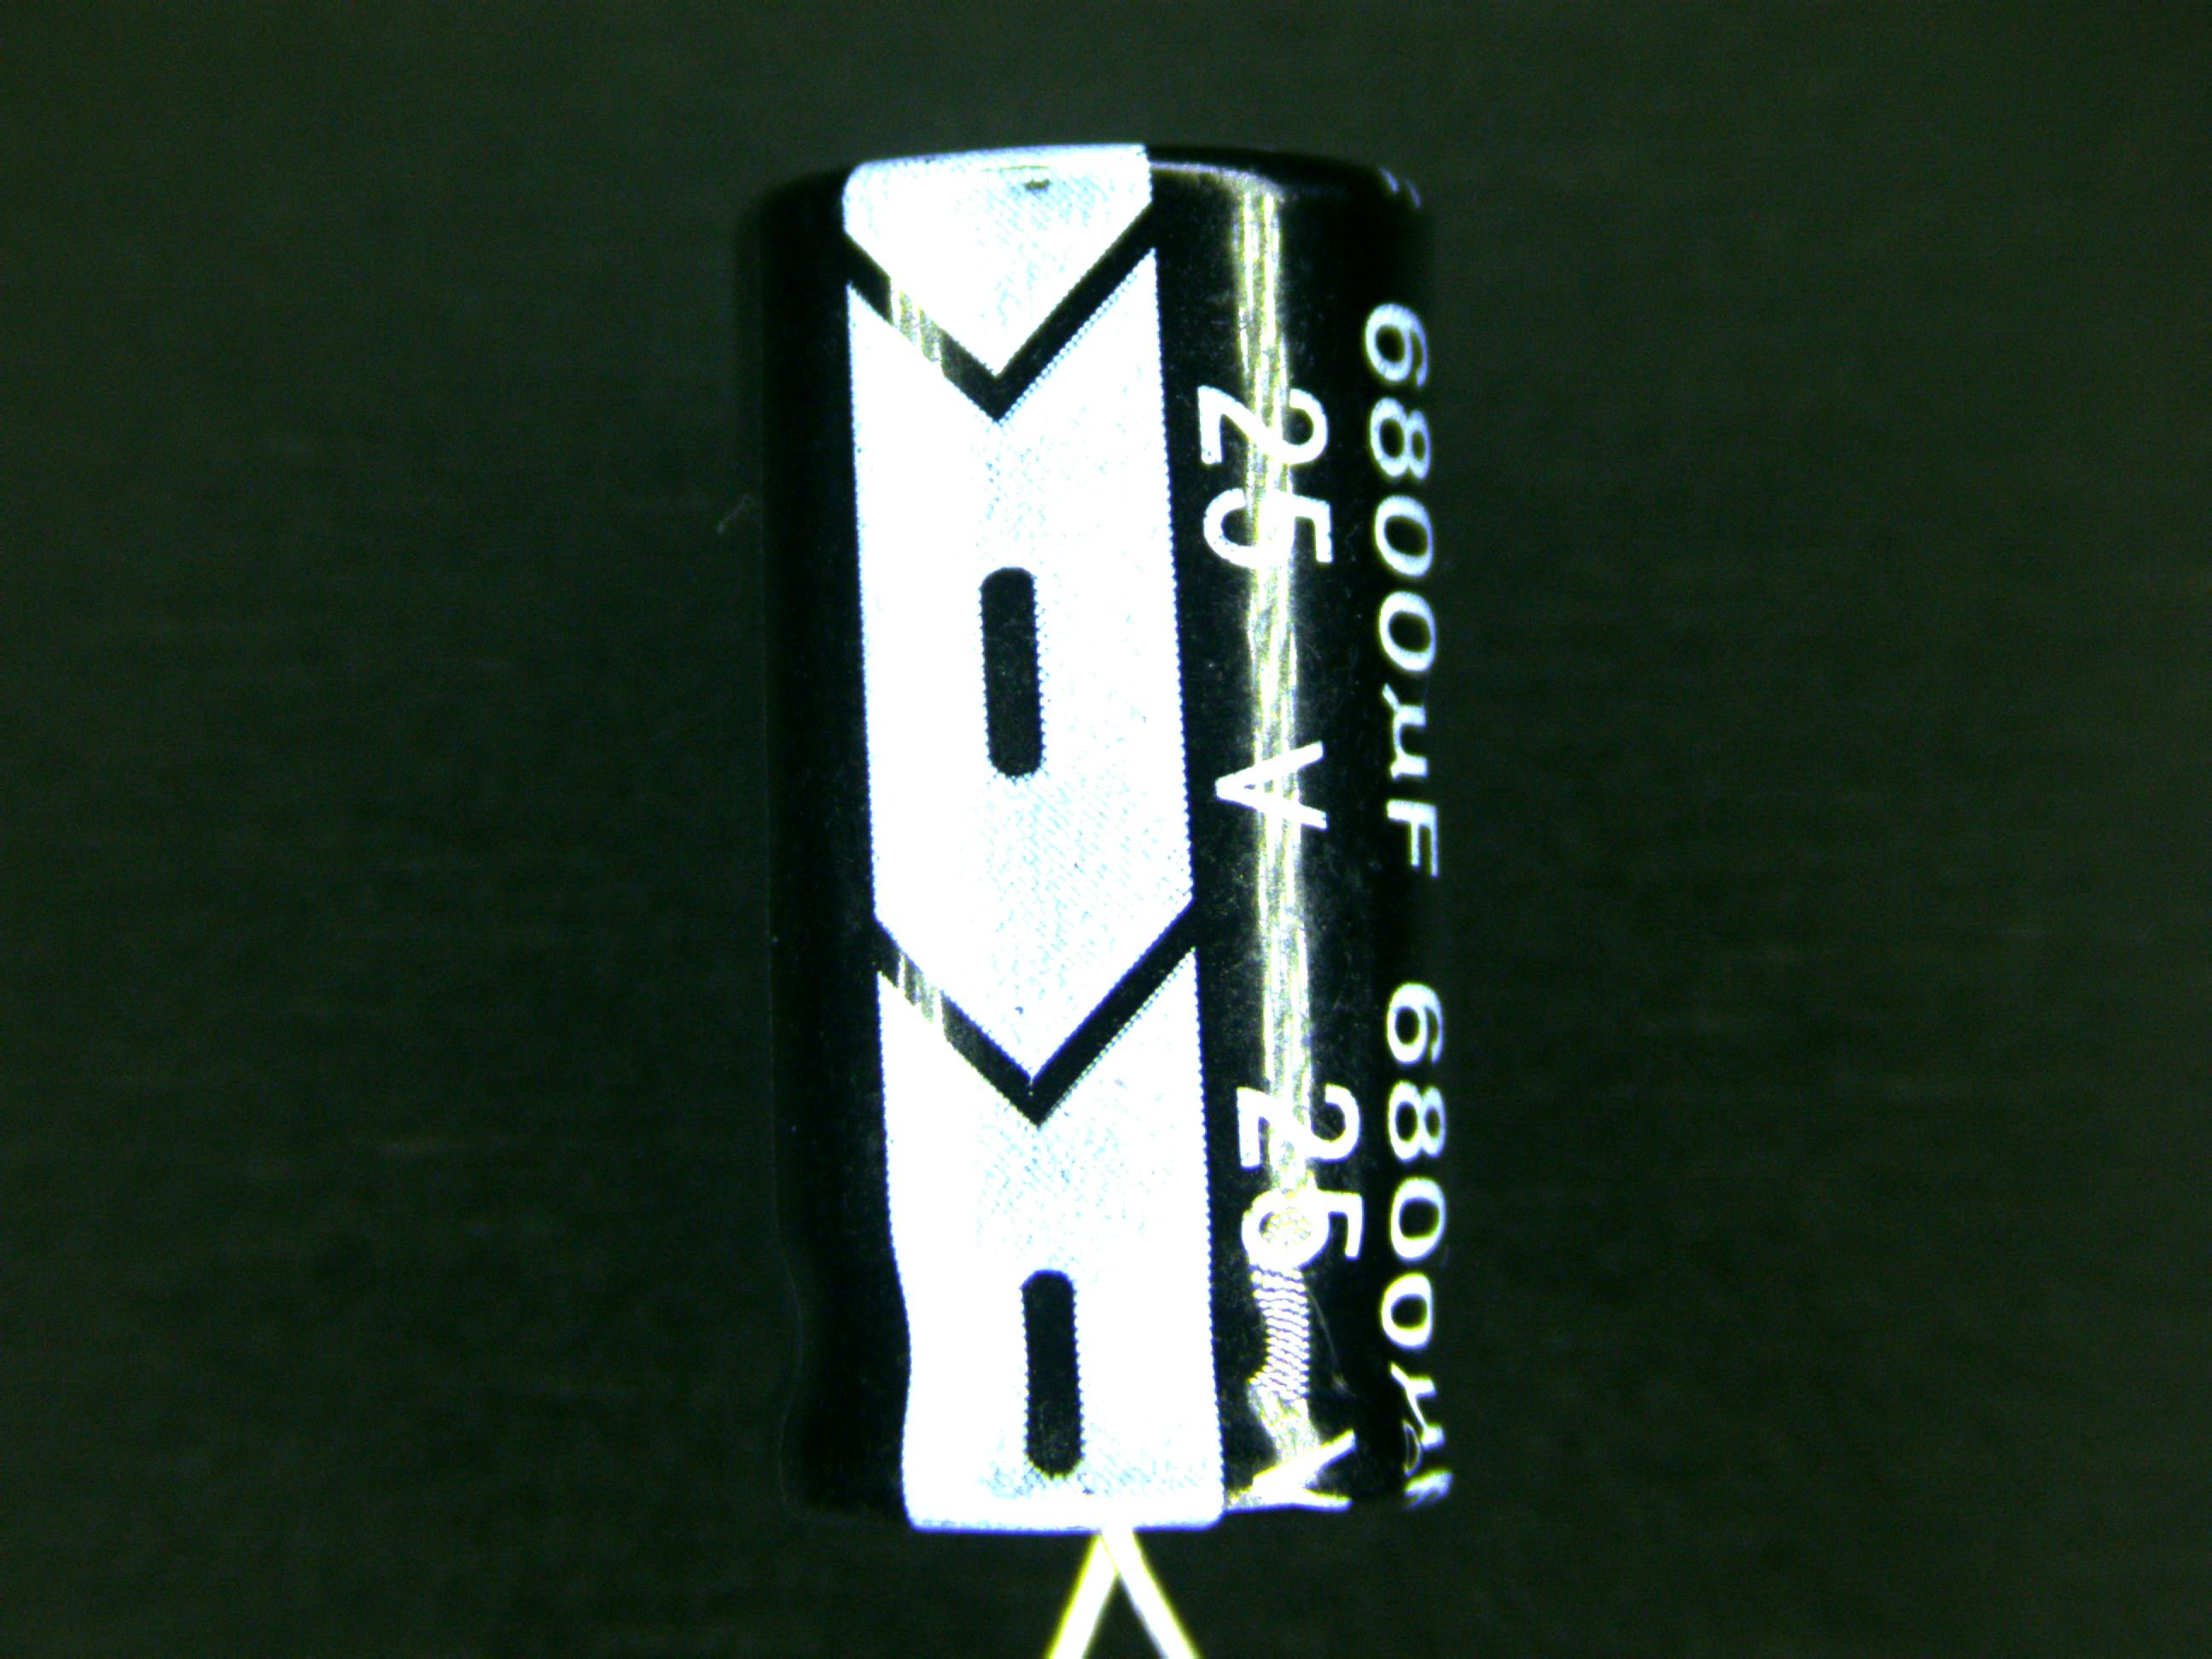c3: (747, 143, 1467, 1610)
